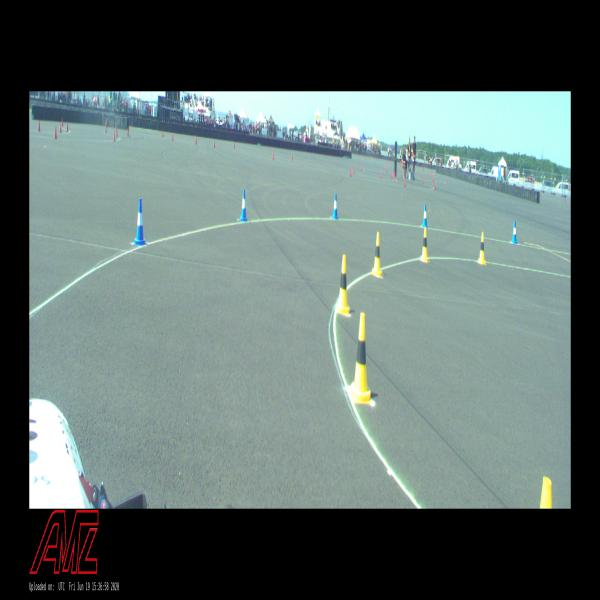blue_cone: (132, 199, 148, 247), (239, 189, 248, 222), (331, 193, 339, 219), (422, 204, 428, 228), (511, 221, 517, 244)
unknown_cone: (54, 125, 57, 138), (59, 121, 62, 133), (113, 130, 116, 141), (66, 122, 69, 132), (349, 167, 352, 177), (61, 117, 64, 126), (379, 170, 382, 179), (38, 120, 40, 132), (115, 128, 118, 136), (393, 173, 396, 180), (105, 124, 107, 134), (404, 176, 406, 186), (127, 127, 129, 136), (195, 135, 197, 144), (272, 151, 274, 160), (353, 166, 355, 174), (434, 181, 436, 189), (172, 132, 173, 140), (214, 140, 215, 148), (162, 130, 163, 137)
yellow_cone: (349, 313, 372, 402), (336, 254, 350, 313), (371, 232, 382, 278), (420, 227, 429, 262), (478, 232, 485, 265)
